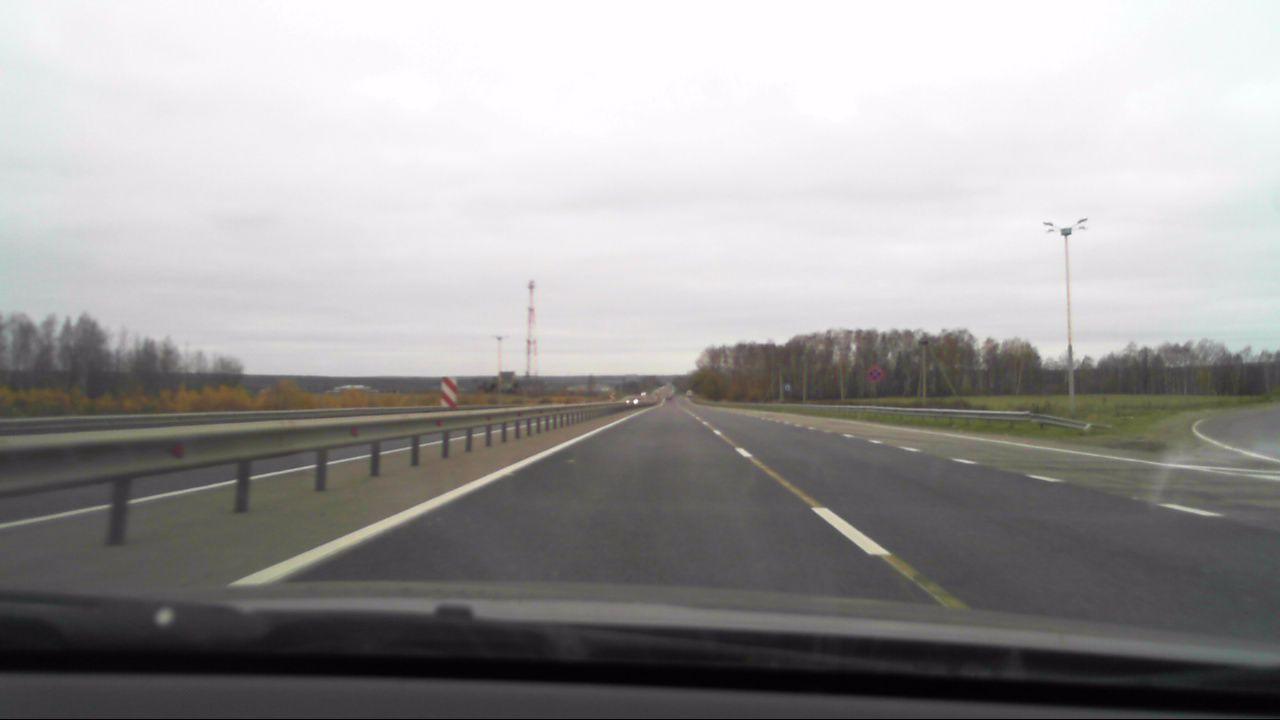3_27: (864, 366, 885, 387)
8_22_1: (437, 374, 457, 409)
